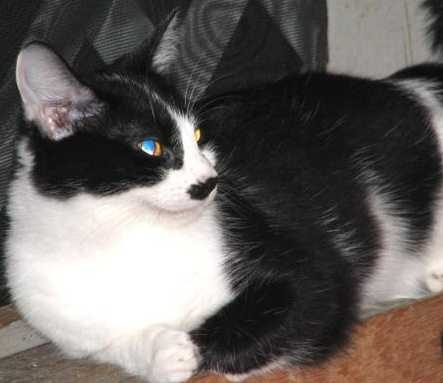Cat: (16, 0, 442, 382)
